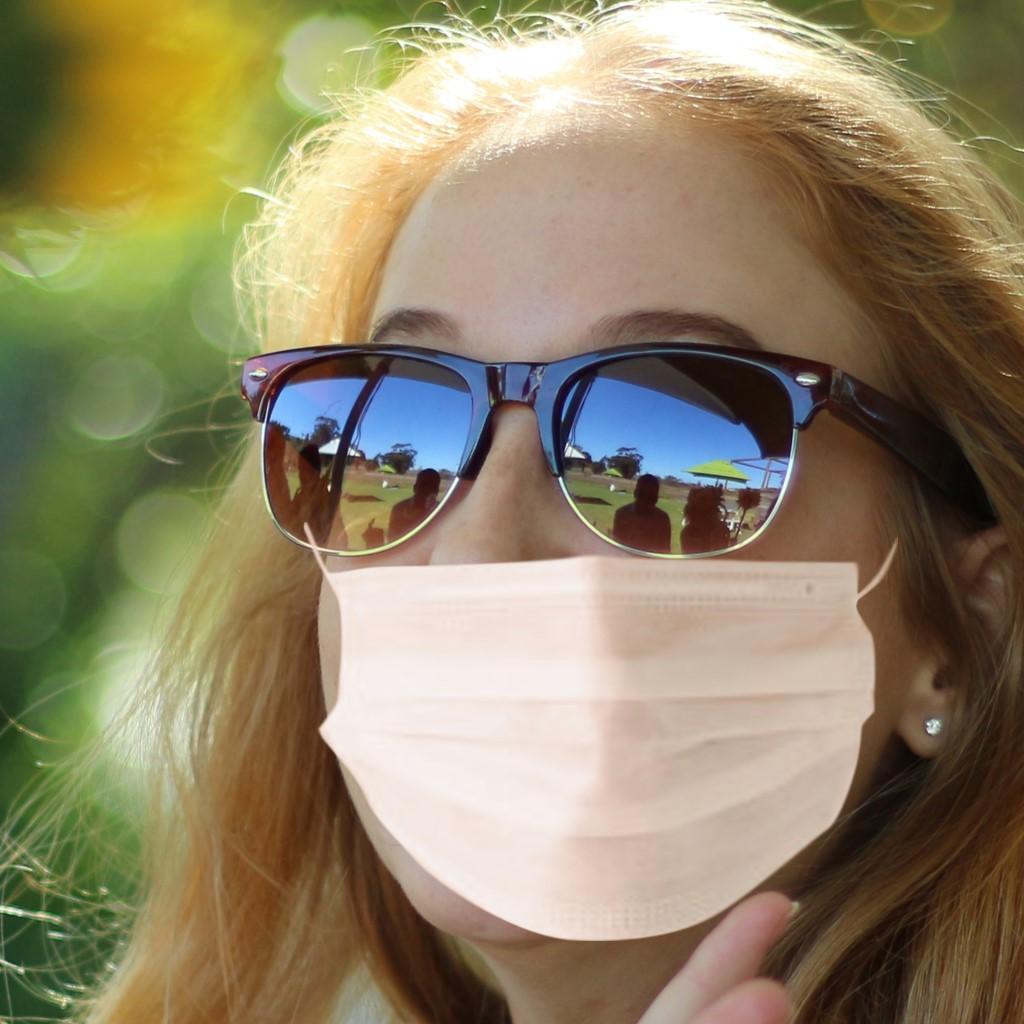con_mascara: (302, 148, 918, 964)
